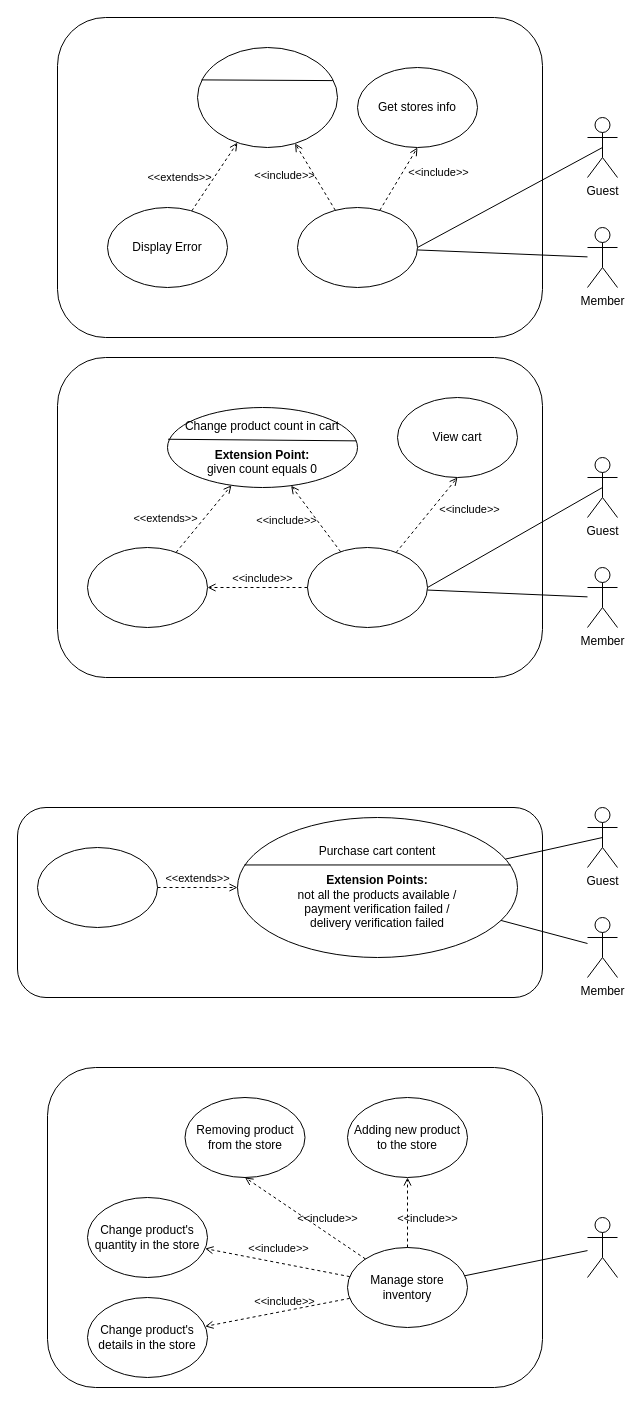
This 642x1405 diagram has some shape labels left out. Each missing label, with the box of its shape:
Delete product from cart: (86, 546, 208, 628)
Error response: (36, 846, 158, 928)
Get info: (296, 206, 418, 288)
Get products info Extension Point: given store not exist store not active: (196, 46, 338, 148)
Manage cart: (306, 546, 428, 628)
Owner: (586, 1216, 618, 1278)
